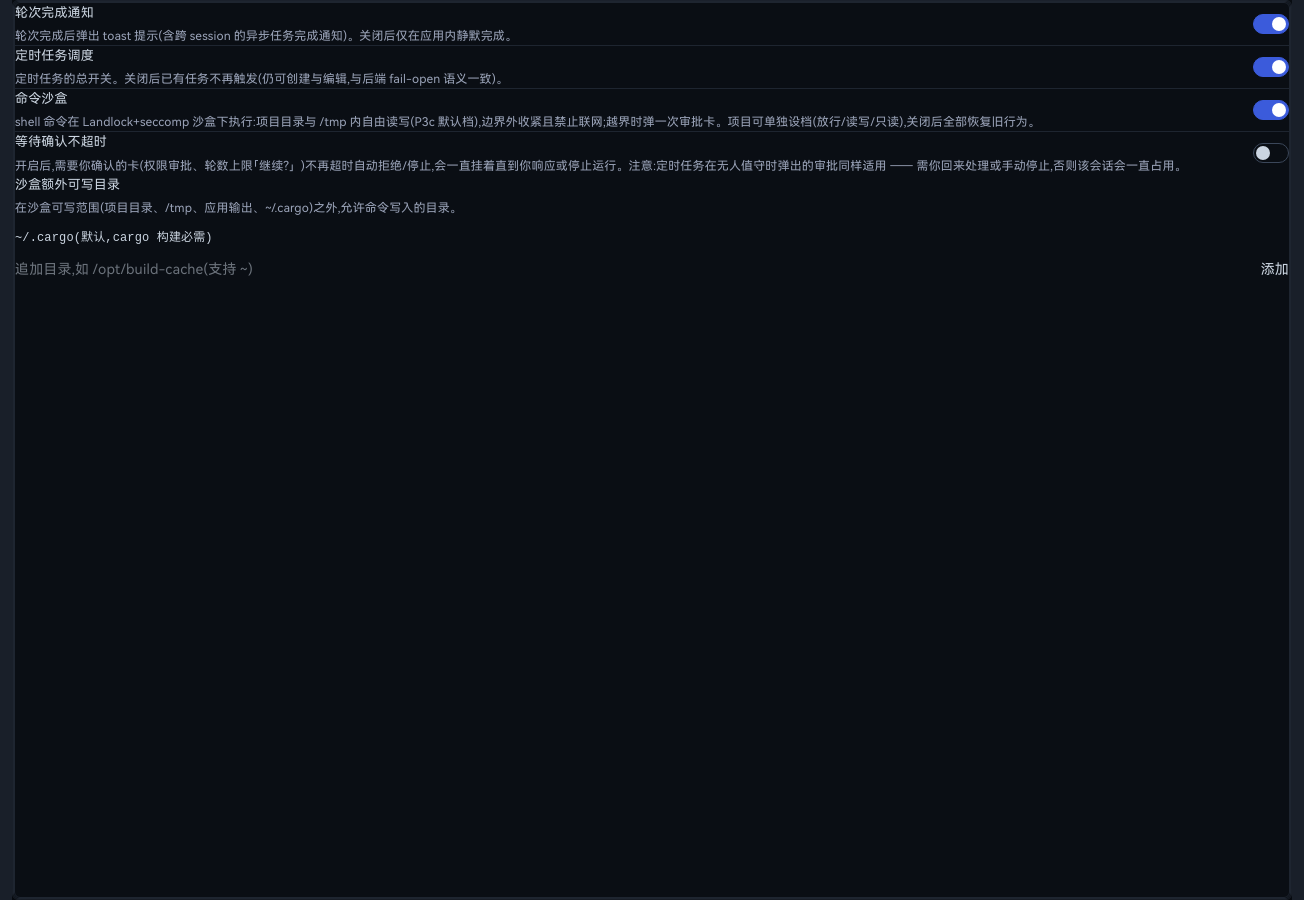
Test: GeneralTab › in-flight 期间开关 disabled,重复点击是 no-op
The width and height of the screenshot is (1304, 900).
Click the switch named "轮次完成通知": (1271, 24) [1253, 14, 1289, 34]
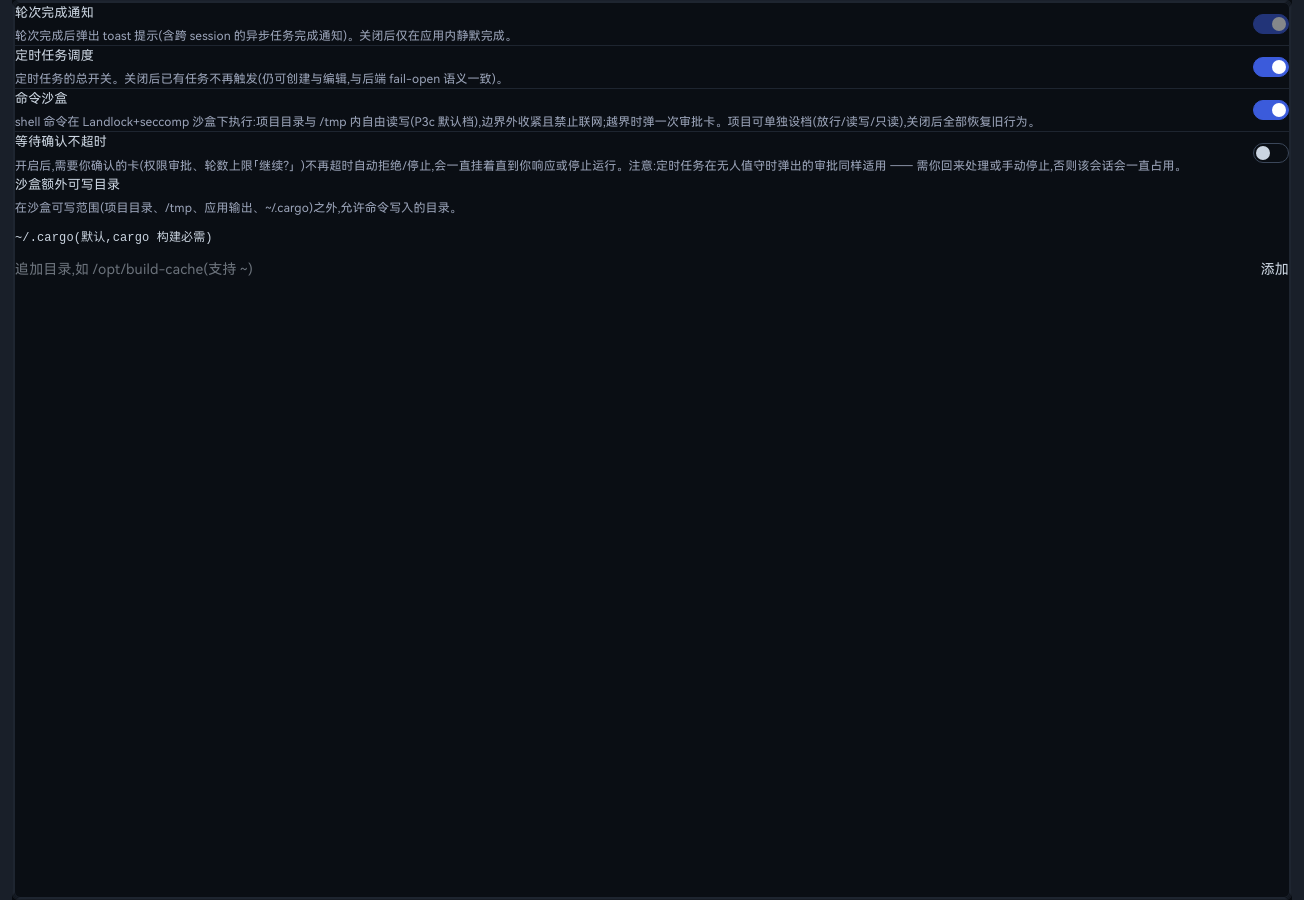
Check: the switch named "轮次完成通知" is disabled
Click the switch named "轮次完成通知": (1271, 24) [1253, 14, 1289, 34]
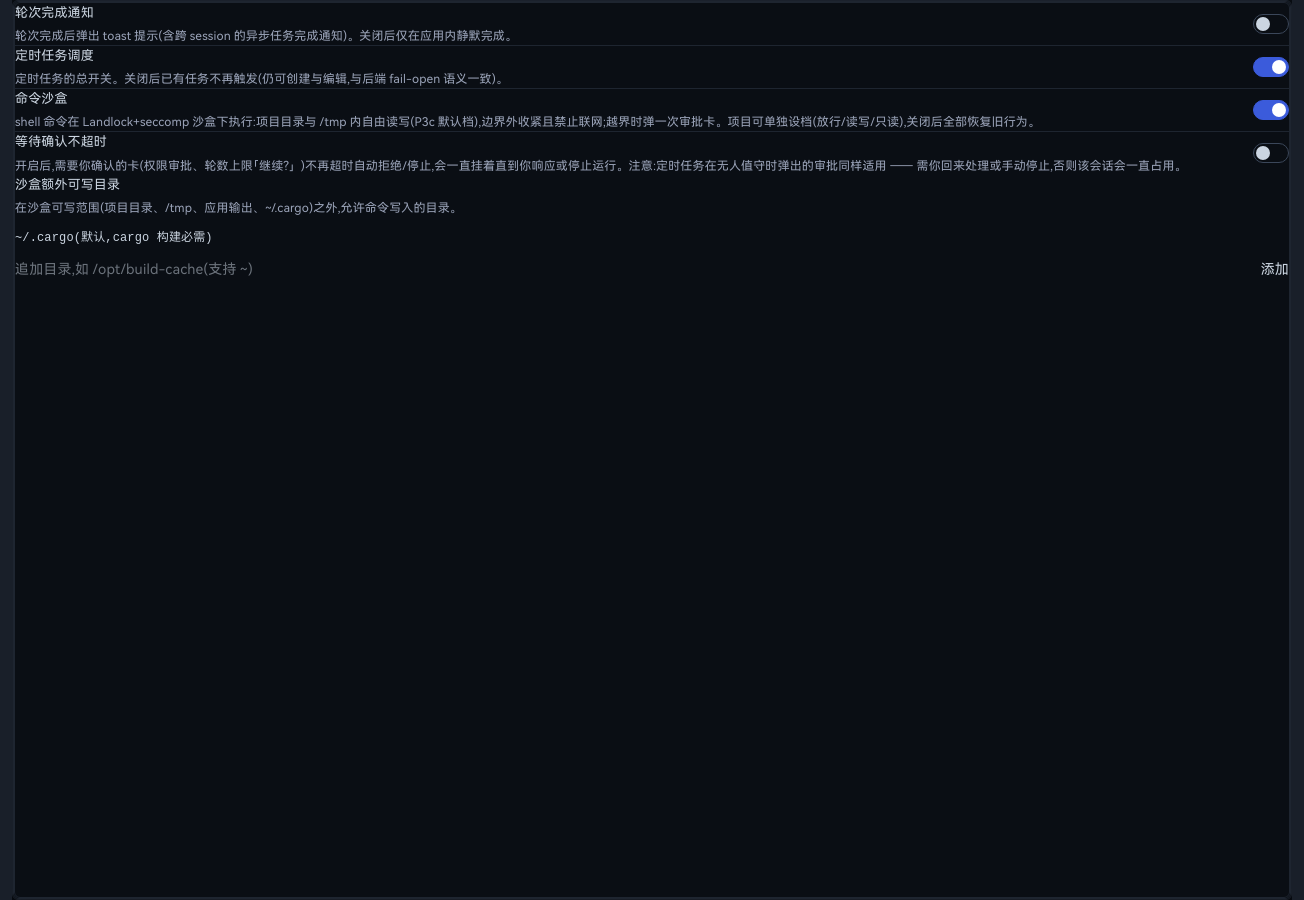
Check: the switch named "轮次完成通知" is enabled, box [1253, 14, 1289, 34]
